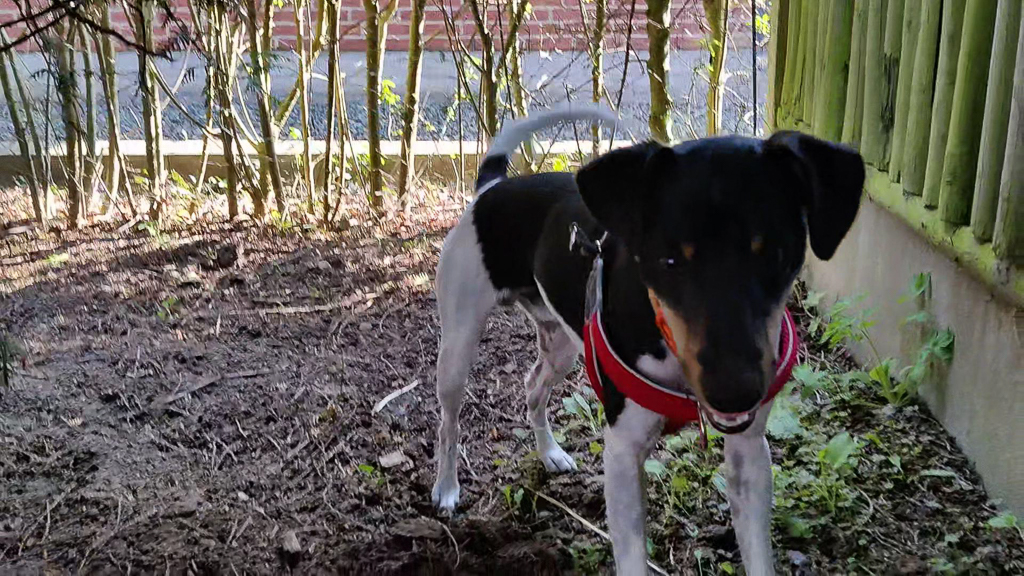Dog: (414, 89, 874, 576)
